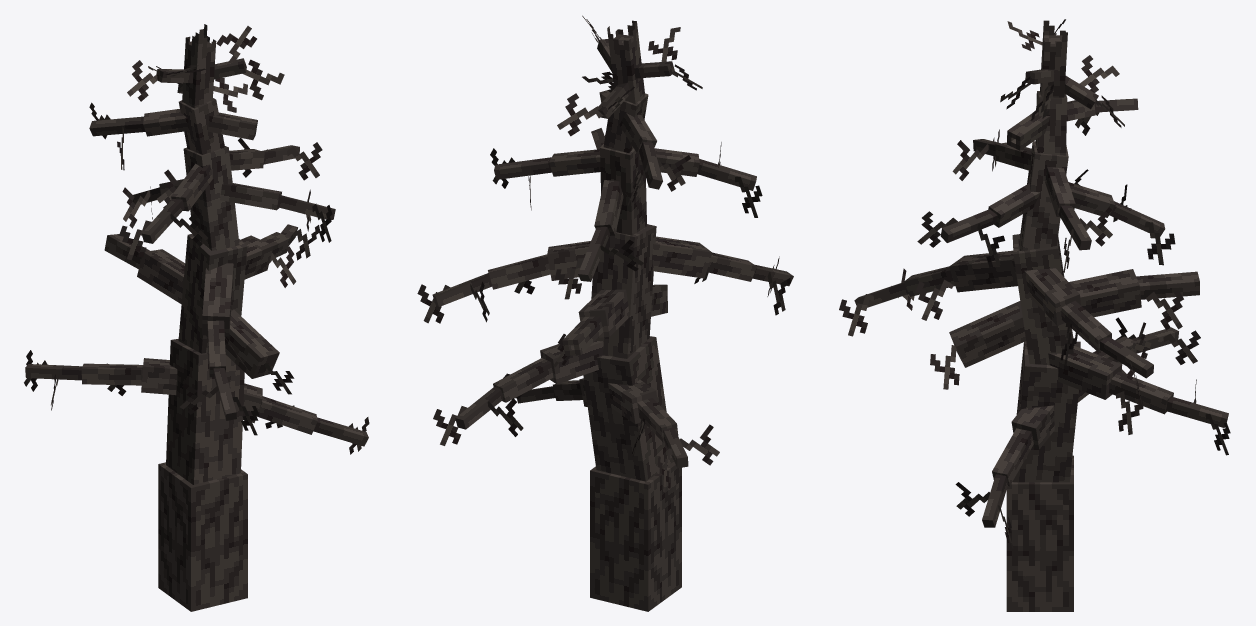
Rendered from burnt-tree-big.gltf.
3 views of the same model, side by side, from view 1: azimuth 30°, elevation 25°; view 2: azimuth 150°, elevation 25°; view 3: azimuth 270°, elevation 25° (orthographic). The views are drawn at different scales.
Visible parts, largest first — view 1: cube (×34); view 2: cube (×33); view 3: cube (×35).
Part boxes in pixels (box(x1,y1,x2,y2)): cube (×34): box(25, 26, 368, 611); cube (×33): box(432, 34, 756, 611); cube (×35): box(839, 35, 1228, 611).
Bounding box in the file's own units: 3.95 × 7.11 × 4.6.
1 material, 1 textured.
